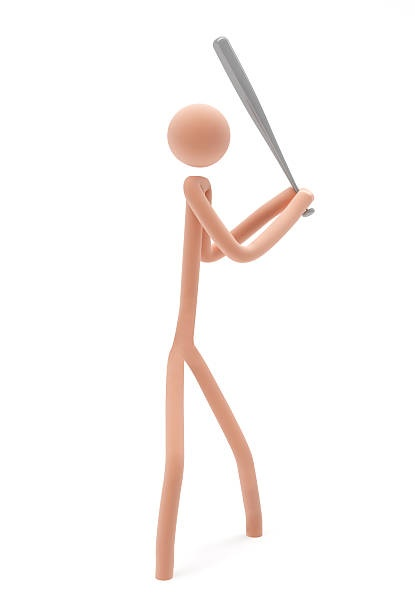bita: (208, 32, 313, 213)
